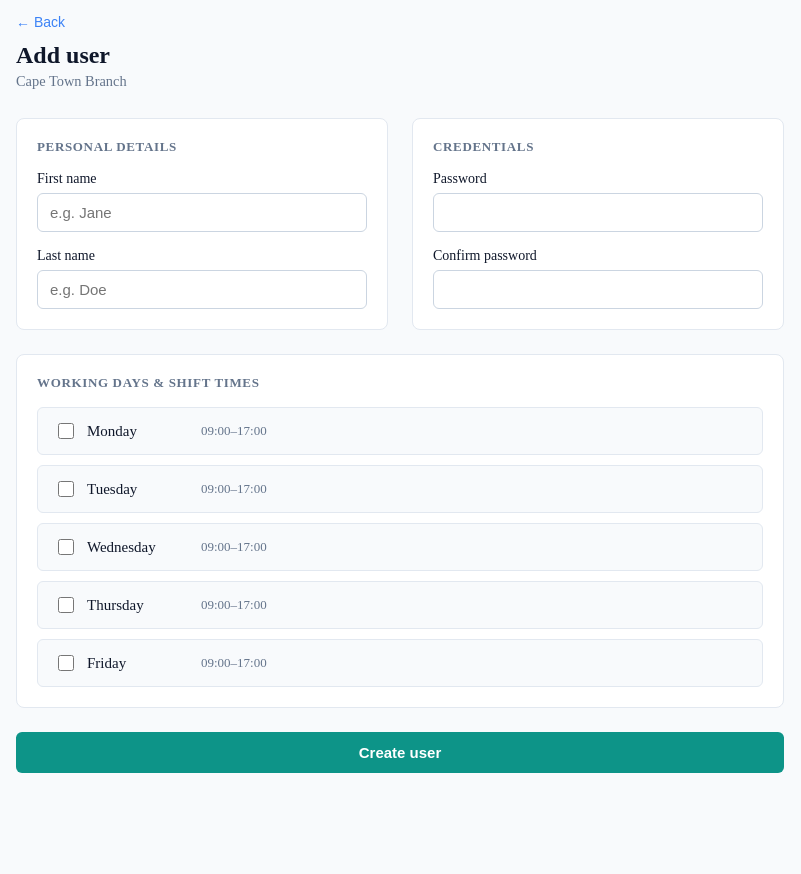
Test: AddUserView › shows first-name-error when firstName contains digits
Step 1. Type "Jane2" into the field with test id "first-name-input" → (202, 212), box [37,193,367,232]
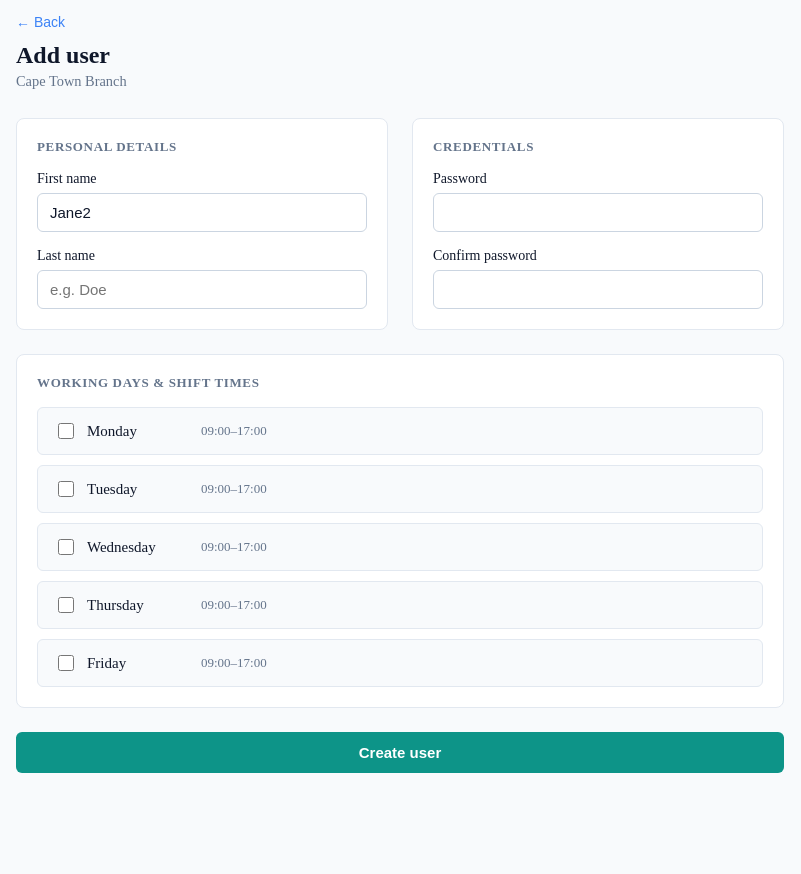
Step 2. Type "Doe" into the field with test id "last-name-input" → (202, 290), box [37,270,367,309]
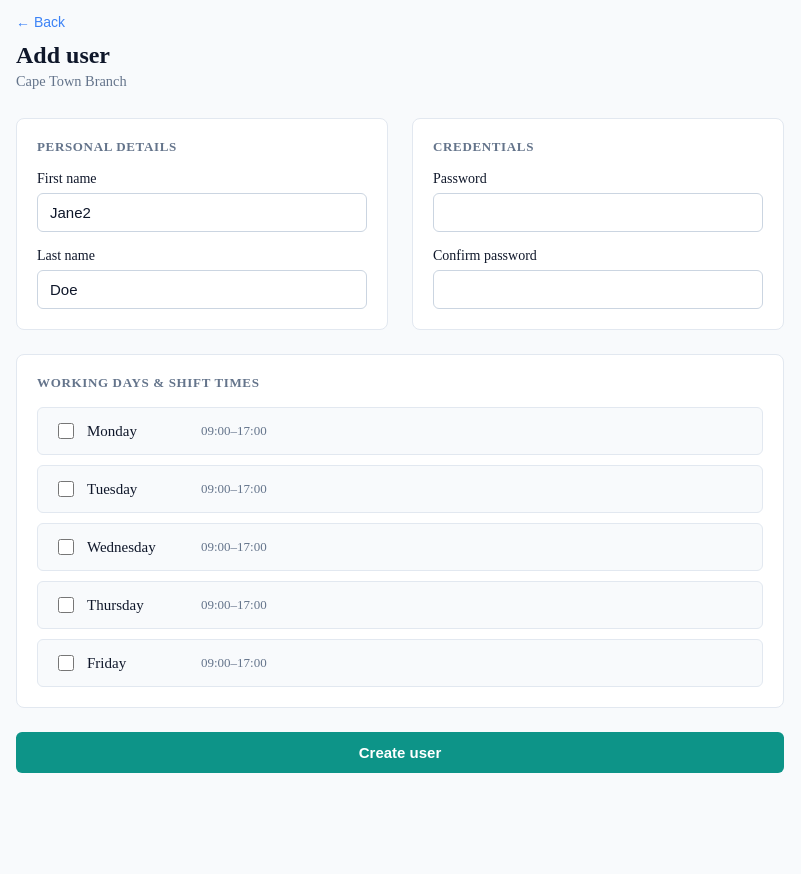
Step 3. Type "secret99" into the password field with test id "password-input" → (598, 212), box [433,193,763,232]
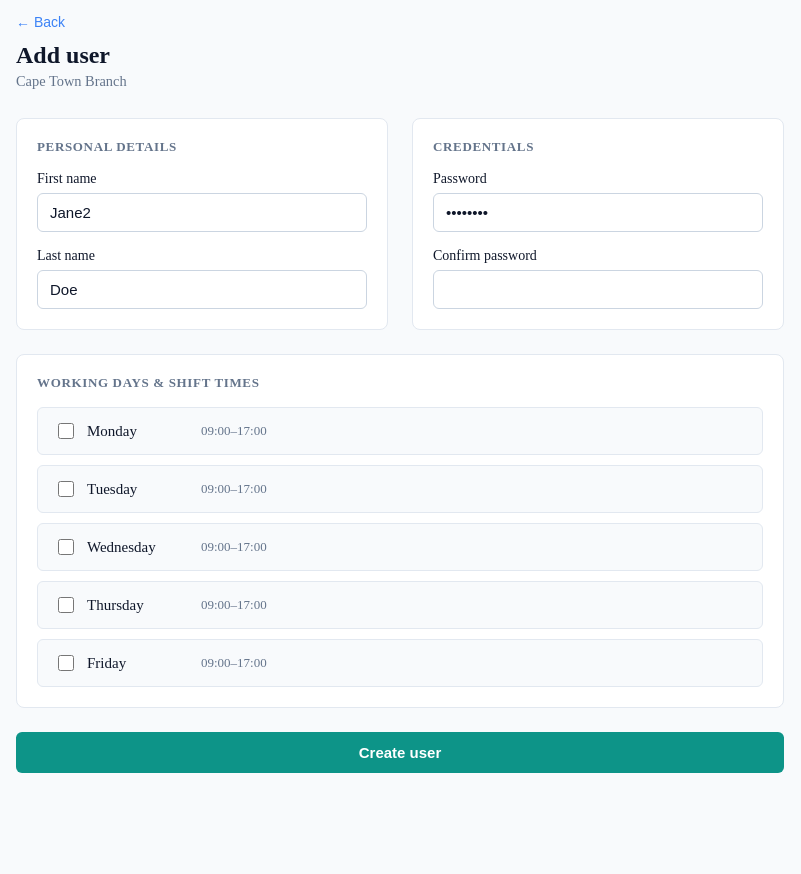
Step 4. Type "secret99" into the password field with test id "confirm-password-input" → (598, 290), box [433,270,763,309]
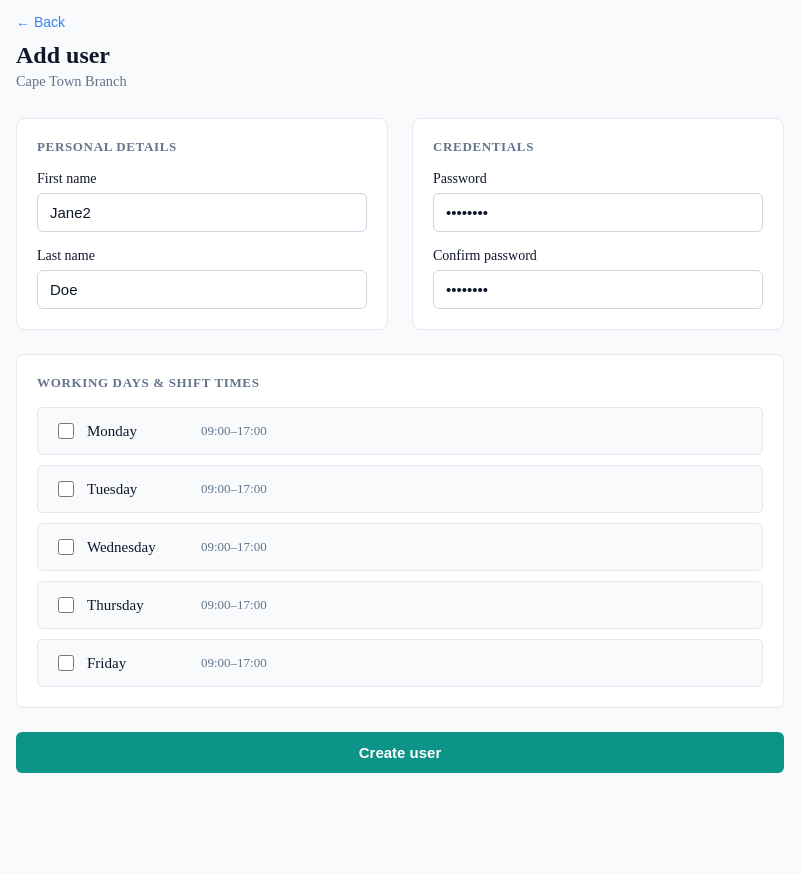
Step 5. Click the checkbox with test id "work-day-monday" → (66, 431), box [58,423,74,439]
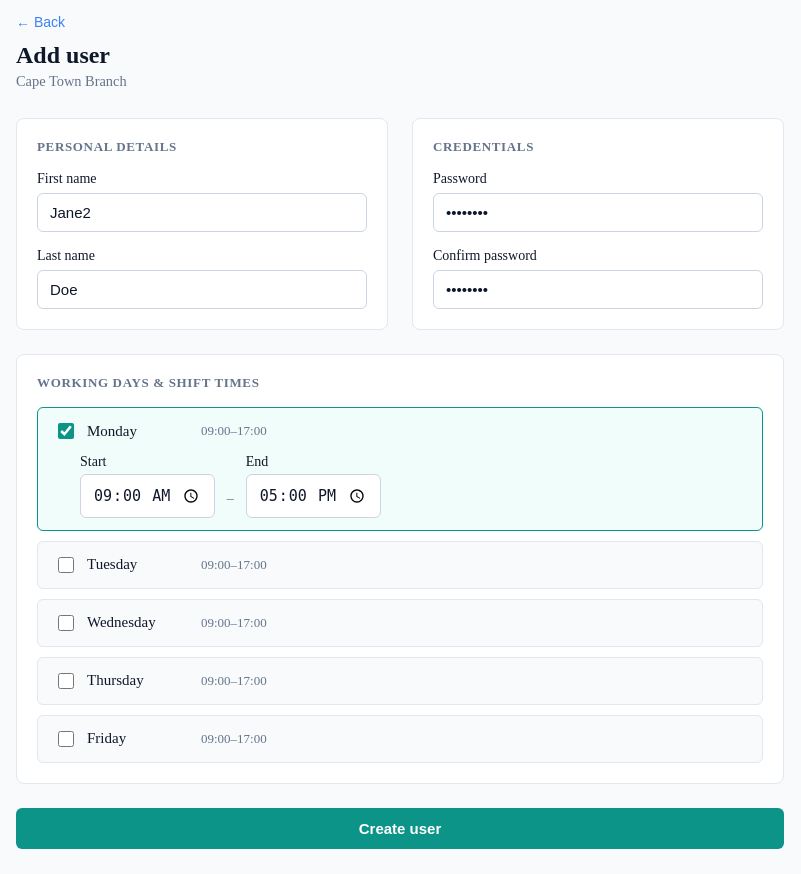
Step 6. Submit the form with test id "add-user-form"
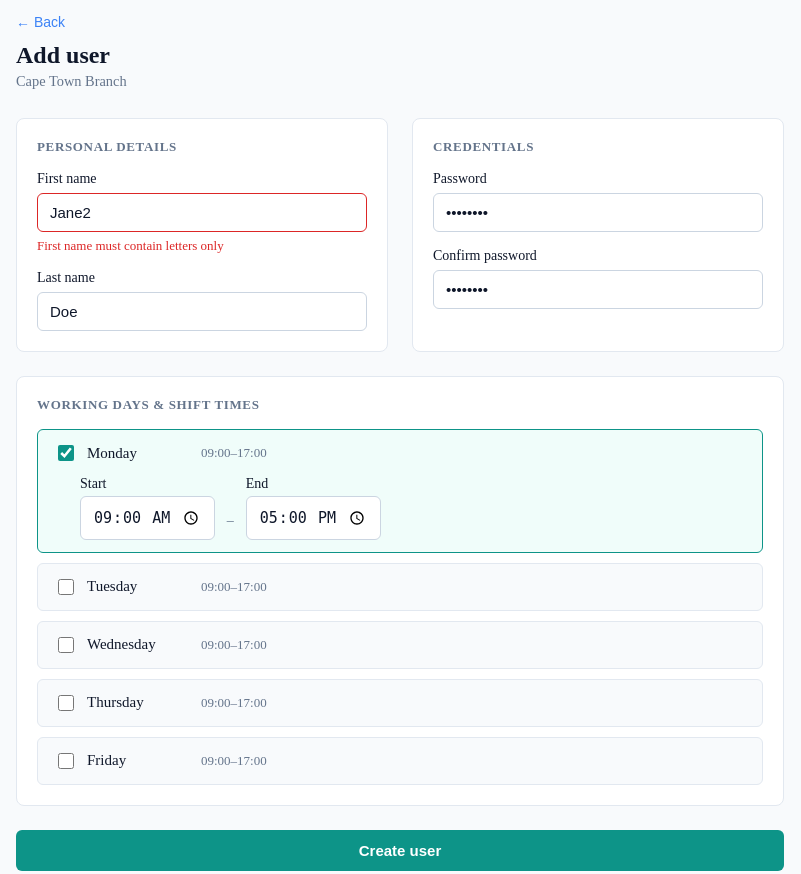
Check: the text "First name must contain letters only" is shown, box [37,238,224,253]
